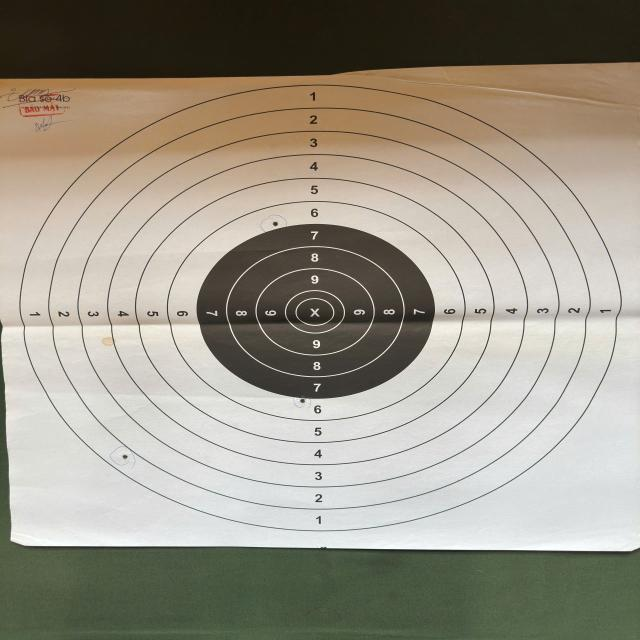bullet: (273, 220, 280, 228), (123, 454, 128, 459)
target: (0, 68, 632, 552)
